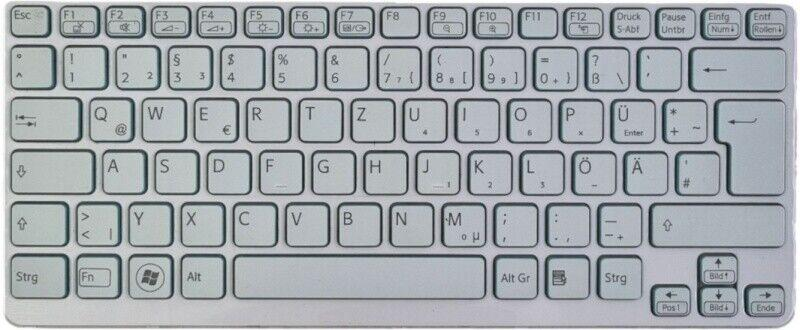0: (530, 43, 577, 90)
1: (60, 43, 106, 88)
2: (112, 43, 158, 88)
3: (164, 43, 211, 88)
4: (218, 43, 263, 88)
5: (269, 43, 315, 88)
6: (321, 43, 367, 89)
7: (374, 43, 420, 90)
8: (426, 43, 472, 90)
9: (477, 43, 524, 89)
a: (99, 147, 144, 192)
accent: (635, 44, 680, 89)
ae: (621, 148, 667, 193)
alt-left: (177, 252, 224, 298)
altgr-right: (490, 253, 537, 298)
b: (333, 200, 380, 245)
c: (230, 200, 275, 245)
caret: (8, 42, 52, 87)
comma: (490, 200, 536, 245)
d: (204, 147, 249, 193)
del: (687, 44, 786, 90)
e: (190, 95, 236, 141)
enter: (712, 95, 785, 196)
f: (256, 147, 302, 193)
g: (308, 148, 354, 193)
h: (360, 148, 406, 193)
hash: (673, 148, 718, 194)
i: (452, 95, 498, 141)
j: (413, 147, 458, 193)
k: (465, 148, 510, 194)
keyboard: (5, 1, 794, 326)
l: (517, 148, 563, 193)
less: (72, 199, 119, 245)
m: (437, 199, 484, 246)
minus: (595, 200, 641, 246)
n: (386, 200, 432, 245)
o: (503, 96, 550, 141)
oe: (568, 148, 614, 194)
p: (556, 96, 602, 141)
plus: (660, 96, 707, 142)
point: (543, 200, 589, 245)
q: (86, 95, 132, 141)
r: (243, 95, 289, 140)
s: (152, 148, 197, 193)
shift-left: (6, 198, 65, 245)
shift-lock: (8, 146, 92, 193)
shift-right: (647, 199, 785, 246)
space: (231, 251, 485, 299)
ss: (582, 44, 628, 90)
strg-left: (5, 251, 67, 298)
strg-right: (594, 253, 642, 299)
t: (296, 95, 341, 140)
tab: (8, 93, 78, 140)
u: (399, 95, 445, 141)
ue: (607, 96, 654, 142)
v: (282, 199, 327, 245)
w: (138, 94, 183, 140)
x: (178, 200, 222, 245)
y: (125, 200, 171, 245)
z: (348, 95, 394, 141)
